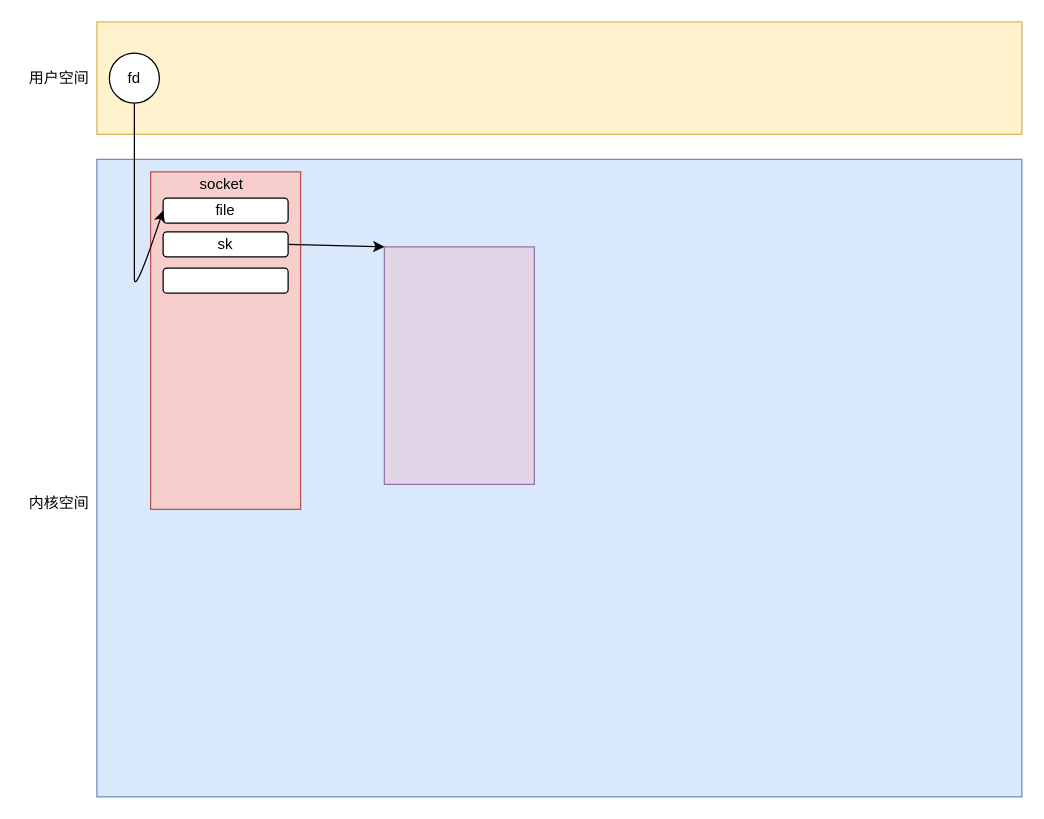
This 1044x819 diagram has some shape labels left out. Each missing label, with the box of its shape:
ops: (162, 267, 288, 293)
sock: (383, 246, 534, 484)
